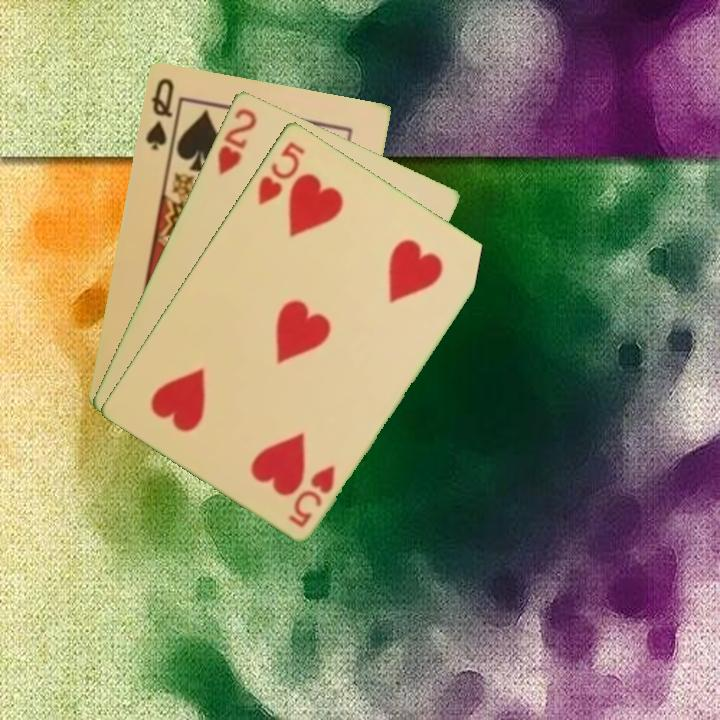2h: (213, 104, 260, 178)
5h: (254, 137, 308, 208), (285, 460, 338, 530)
Qs: (141, 74, 177, 153)
